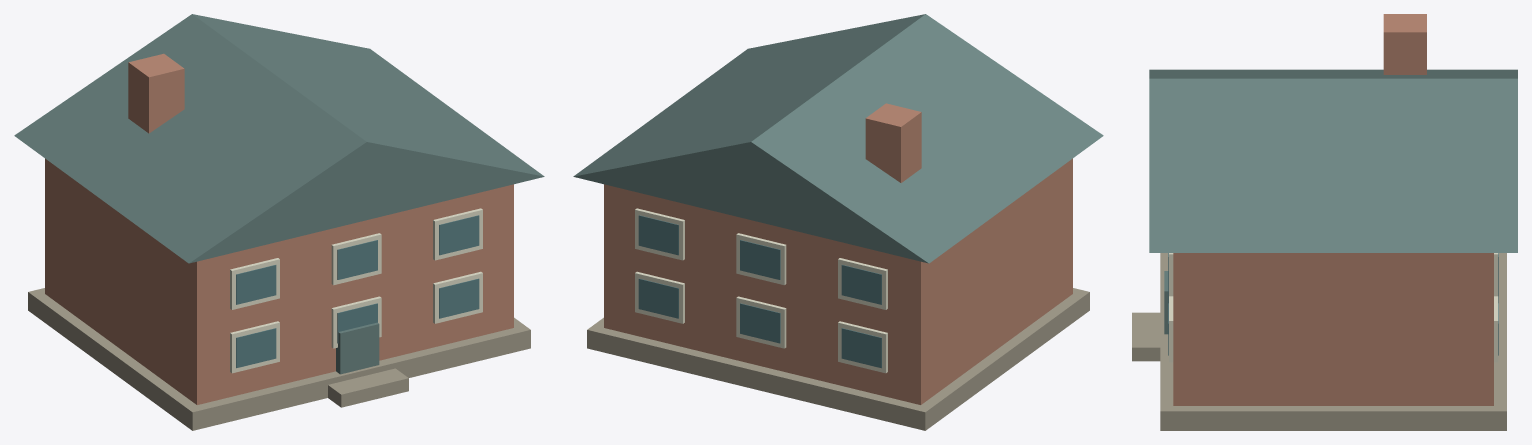
File: coastal-cedar.glb
The picture shows the model from 3 angles, left to right: view 1: azimuth 30°, elevation 25°; view 2: azimuth 150°, elevation 25°; view 3: azimuth 270°, elevation 25°; orthographic projection. The views are drawn at different scales.
Visible parts, largest first — view 1: Gable, Main volume, Footing, Chimney, Entry step, Entry, Window glazing.010, Window glazing, Window glazing.004, Window glazing.006, Window glazing.008, Window trim.008 (+6 smaller); view 2: Gable, Main volume, Footing, Chimney, Window glazing.011, Window glazing.001, Window glazing.003, Window glazing.005, Window glazing.007, Window glazing.009, Window trim.003, Window trim.009 (+4 smaller); view 3: Gable, Main volume, Footing, Chimney, Entry step.
Part boxes in pixels (x1,y1,x2,y2): Gable: [14, 14, 544, 263]; Main volume: [45, 158, 513, 404]; Footing: [28, 288, 530, 430]; Chimney: [128, 53, 184, 133]; Entry step: [328, 368, 408, 407]; Entry: [336, 322, 379, 374]; Window glazing.010: [439, 215, 479, 255]; Window glazing: [236, 328, 276, 368]; Window glazing.004: [439, 278, 479, 318]; Window glazing.006: [236, 265, 276, 304]; Window glazing.008: [337, 240, 377, 279]; Window trim.008: [331, 233, 381, 285]; Gable: [573, 14, 1103, 263]; Main volume: [604, 158, 1072, 404]; Footing: [587, 288, 1089, 430]; Chimney: [865, 103, 921, 182]; Window glazing.011: [638, 215, 678, 255]; Window glazing.001: [841, 328, 881, 368]; Window glazing.003: [740, 303, 780, 343]; Window glazing.005: [638, 278, 678, 318]; Window glazing.007: [841, 265, 881, 304]; Window glazing.009: [740, 240, 780, 279]; Window trim.003: [736, 296, 786, 348]; Window trim.009: [736, 233, 786, 285]; Gable: [1149, 69, 1517, 252]; Main volume: [1173, 253, 1493, 405]; Footing: [1160, 253, 1506, 430]; Chimney: [1383, 14, 1426, 74]; Entry step: [1132, 312, 1160, 361].
Bounding box in the file's own units: 20 × 14 × 17.8.
